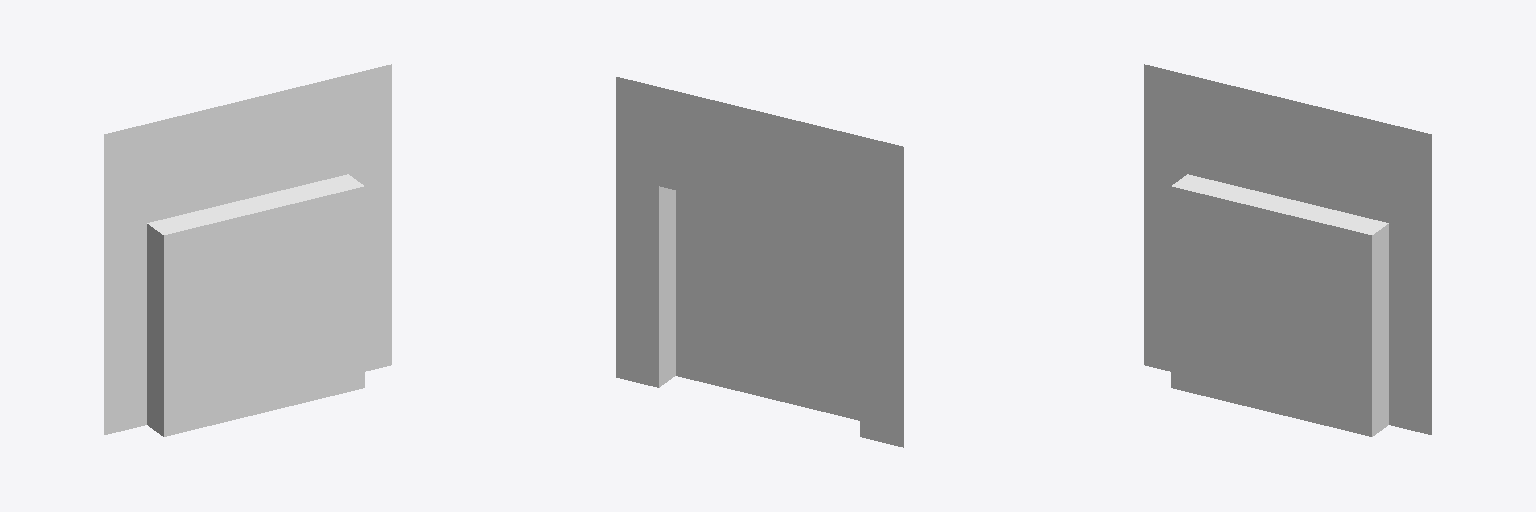
Rendered from wall-b-flat-garage.obj.
3 renders of one model, left to right at view 1: azimuth 30°, elevation 25°; view 2: azimuth 150°, elevation 25°; view 3: azimuth 330°, elevation 25°, orthographic.
Visible parts, largest first — view 1: wall-b-flat-garage; view 2: wall-b-flat-garage; view 3: wall-b-flat-garage.
Part boxes in pixels (x1,y1,x2,y2): wall-b-flat-garage: (104, 64, 391, 436); wall-b-flat-garage: (616, 77, 903, 447); wall-b-flat-garage: (1144, 64, 1431, 436).
Size of the model in its own units: 1 by 1 by 0.1.